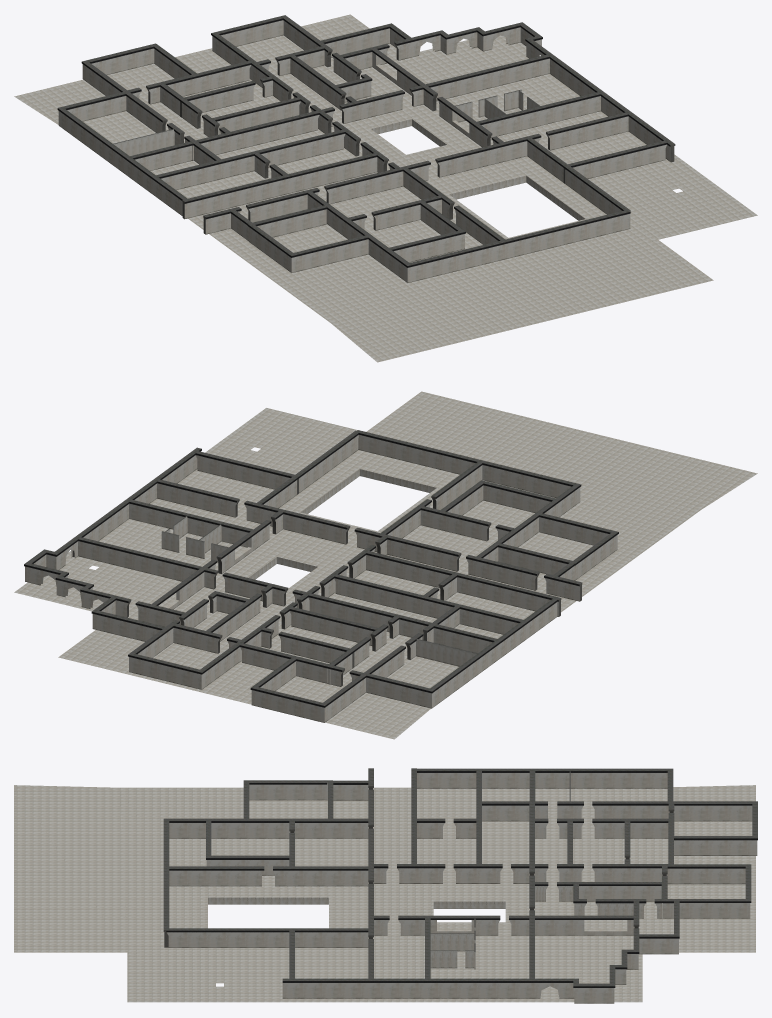
Rendered from WALL.fbx.
The picture shows the model from 3 angles, top to bottom: view 1: azimuth 30°, elevation 25°; view 2: azimuth 150°, elevation 25°; view 3: azimuth 270°, elevation 25°; orthographic projection. The views are drawn at different scales.
Parts seen in each view (by area): view 1: corner-NW038, Plane023, wall regips, wall regips1; view 2: corner-NW038, Plane023, wall regips, wall regips1; view 3: Plane023, corner-NW038, wall regips.
Boxes of the visible parts, x1,y1,x2,y2 form: corner-NW038: (57,15,675,282); Plane023: (14,14,757,362); wall regips: (455,89,539,122); wall regips1: (113,129,174,155); corner-NW038: (24,430,618,722); Plane023: (14,391,757,739); wall regips: (161,516,228,562); wall regips1: (416,639,477,666); Plane023: (14,785,755,1002); corner-NW038: (163,768,757,1003); wall regips: (430,918,475,969).
Bounding box in the file's own units: 6441 × 343 × 9249.
